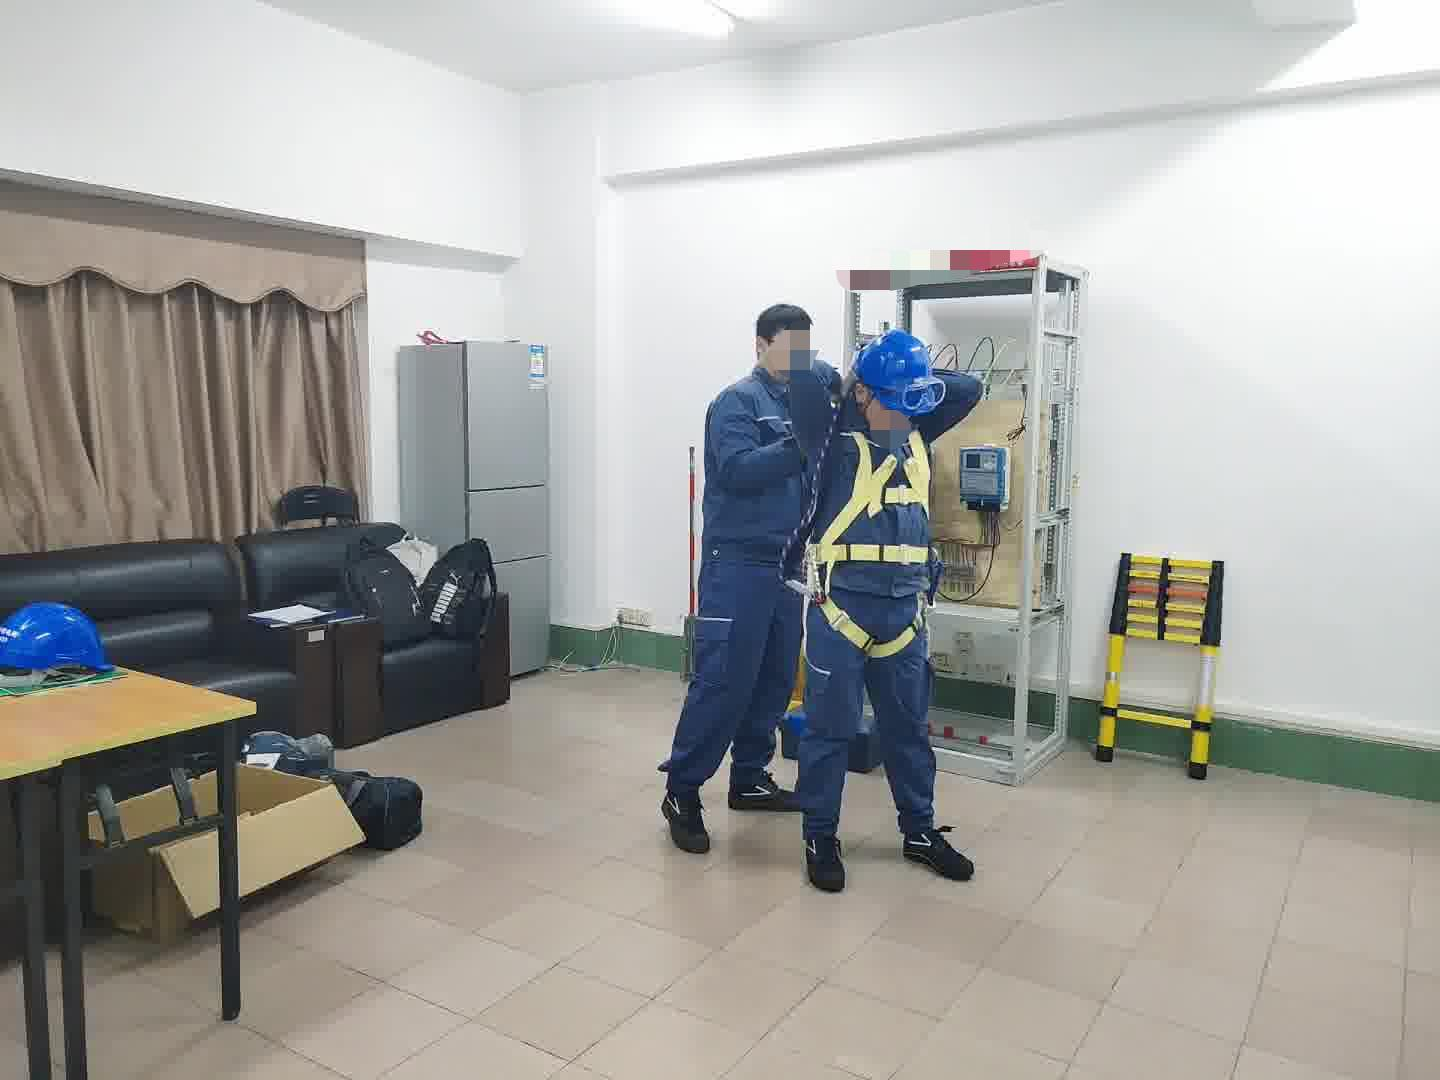halt: (854, 331, 937, 428)
inear: (854, 380, 881, 420)
noear: (759, 338, 776, 365)
unhalt: (753, 306, 818, 376)
